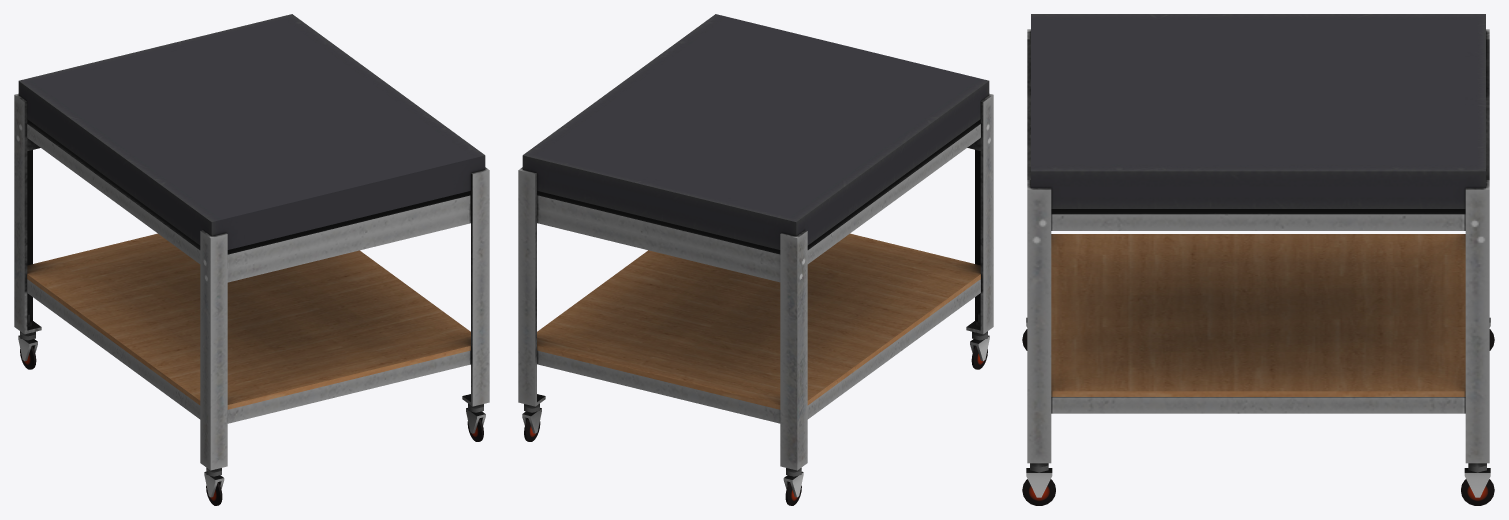
File: Mesa General con ruedas.FBX
3 renders of one model, left to right at view 1: azimuth 30°, elevation 25°; view 2: azimuth 150°, elevation 25°; view 3: azimuth 270°, elevation 25°, orthographic. The views are drawn at different scales.
Parts seen in each view (by area): view 1: Tabla_mesa, Tabla_inferior, Patas, Tubos_001, Tubos_002; view 2: Tabla_mesa, Tabla_inferior, Patas, Tubos_001, Tubos_002; view 3: Tabla_mesa, Tabla_inferior, Tubos_001, Patas, Rueda_002, Rueda_004.
Part boxes in pixels (bbox=[...]): Tabla_mesa: bbox=[18, 14, 485, 249]; Tabla_inferior: bbox=[27, 233, 470, 409]; Patas: bbox=[14, 93, 489, 470]; Tubos_001: bbox=[27, 119, 470, 423]; Tubos_002: bbox=[27, 138, 470, 282]; Tabla_mesa: bbox=[522, 14, 989, 249]; Tabla_inferior: bbox=[537, 233, 980, 409]; Patas: bbox=[518, 93, 993, 470]; Tubos_001: bbox=[537, 119, 980, 423]; Tubos_002: bbox=[537, 138, 980, 282]; Tabla_mesa: bbox=[1031, 14, 1485, 208]; Tabla_inferior: bbox=[1051, 234, 1465, 396]; Tubos_001: bbox=[1051, 209, 1465, 413]; Patas: bbox=[1027, 29, 1489, 463]; Rueda_002: bbox=[1022, 479, 1055, 505]; Rueda_004: bbox=[1461, 479, 1494, 505].
Size of the model in its own units: 0.917 by 0.9 by 1.14.
Materials: 2 (2 with a texture image).
